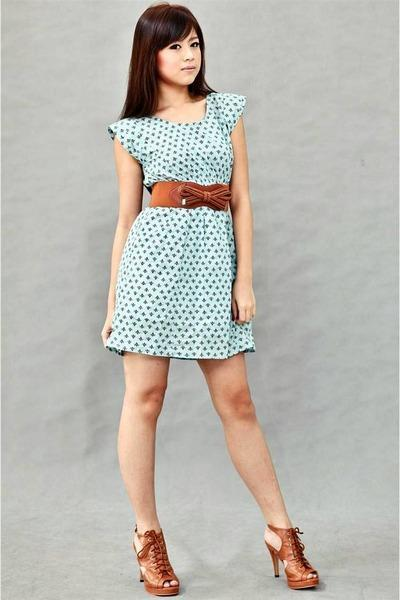dress: (102, 93, 253, 358)
shoe: (138, 527, 322, 596)
